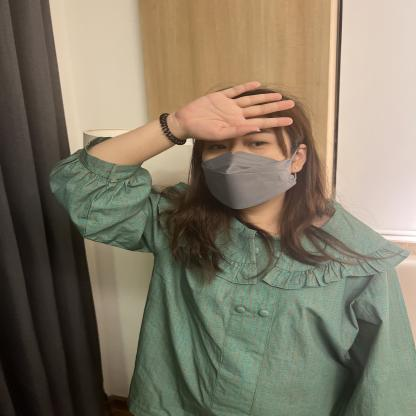Sick: (120, 51, 368, 172)
